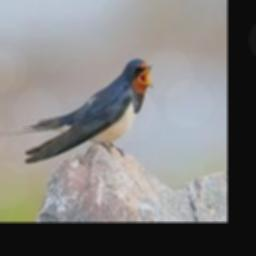Swallow: (22, 59, 153, 163)
